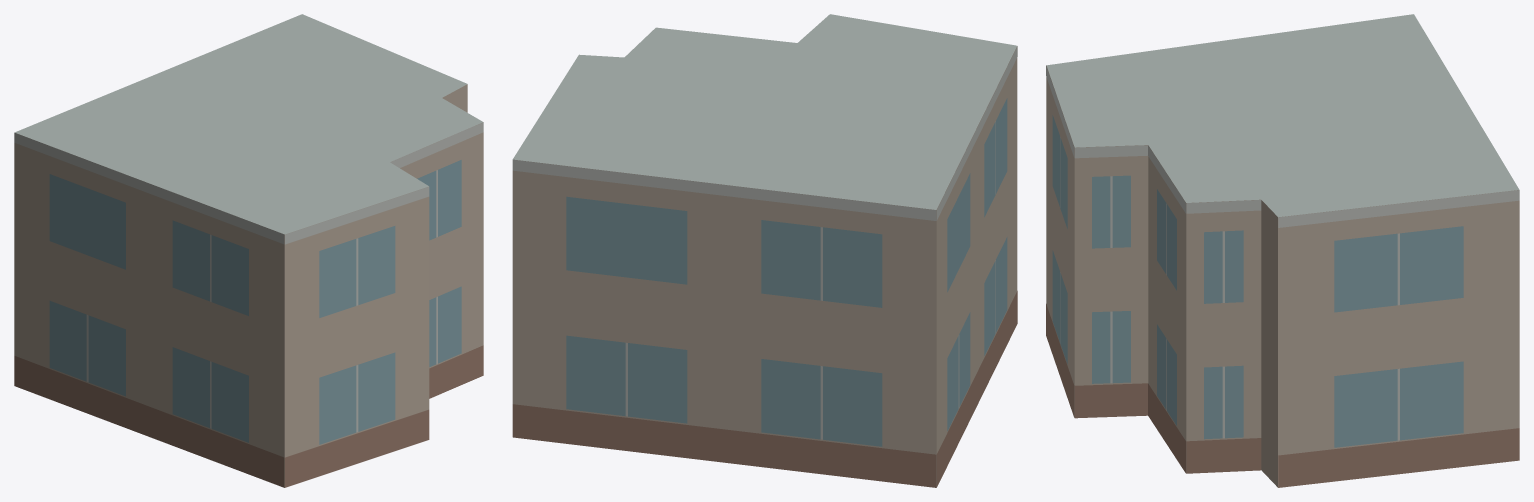
The model's file is survey-upis-32735921.glb.
3 renders of one model, left to right at view 1: azimuth 30°, elevation 25°; view 2: azimuth 150°, elevation 25°; view 3: azimuth 270°, elevation 25°, orthographic. The views are drawn at different scales.
Parts seen in each view (by area): view 1: survey-upis-32735921.tmp; view 2: survey-upis-32735921.tmp; view 3: survey-upis-32735921.tmp.
Part boxes in pixels (x1=…): survey-upis-32735921.tmp: x1=14, y1=14, x2=483, y2=487; survey-upis-32735921.tmp: x1=512, y1=14, x2=1017, y2=487; survey-upis-32735921.tmp: x1=1046, y1=14, x2=1519, y2=487.
Bounding box in the file's own units: 9.83 × 6.1 × 9.68.
